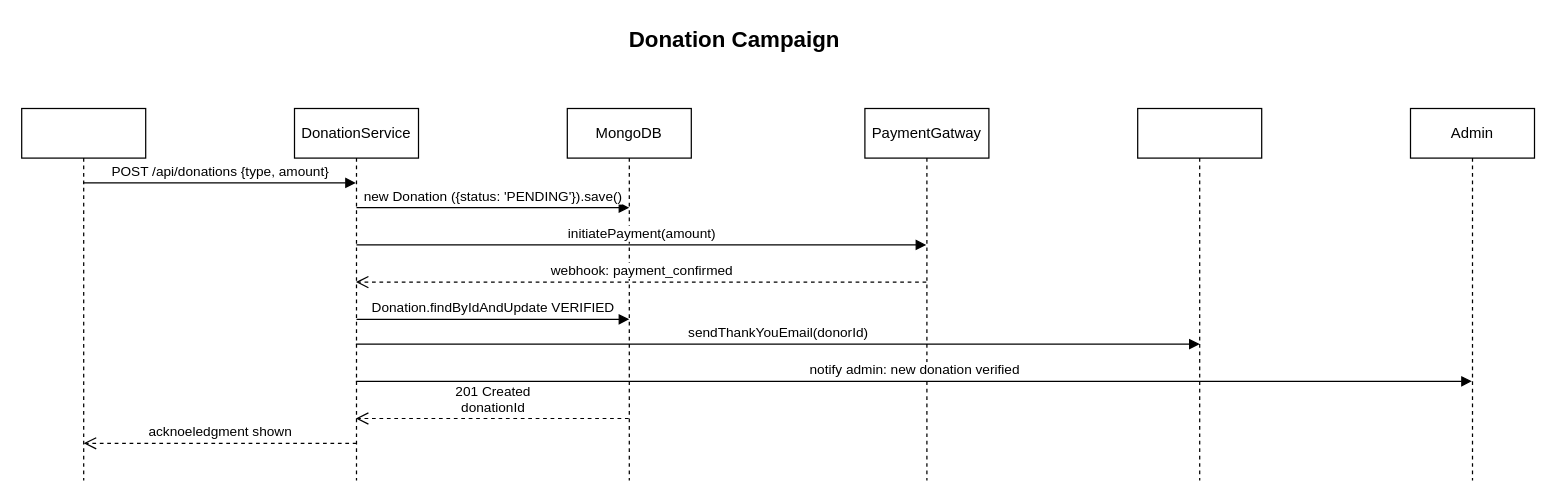
Image size: 1556x502. Some labels were removed from this diagram. The shapes that lost their labels are listed below. From the top down, each one's box as (x1, y1, x2, y2) in pixels, then its label:
(20, 107, 146, 480): Donor
(1136, 107, 1262, 480): NotificationService
